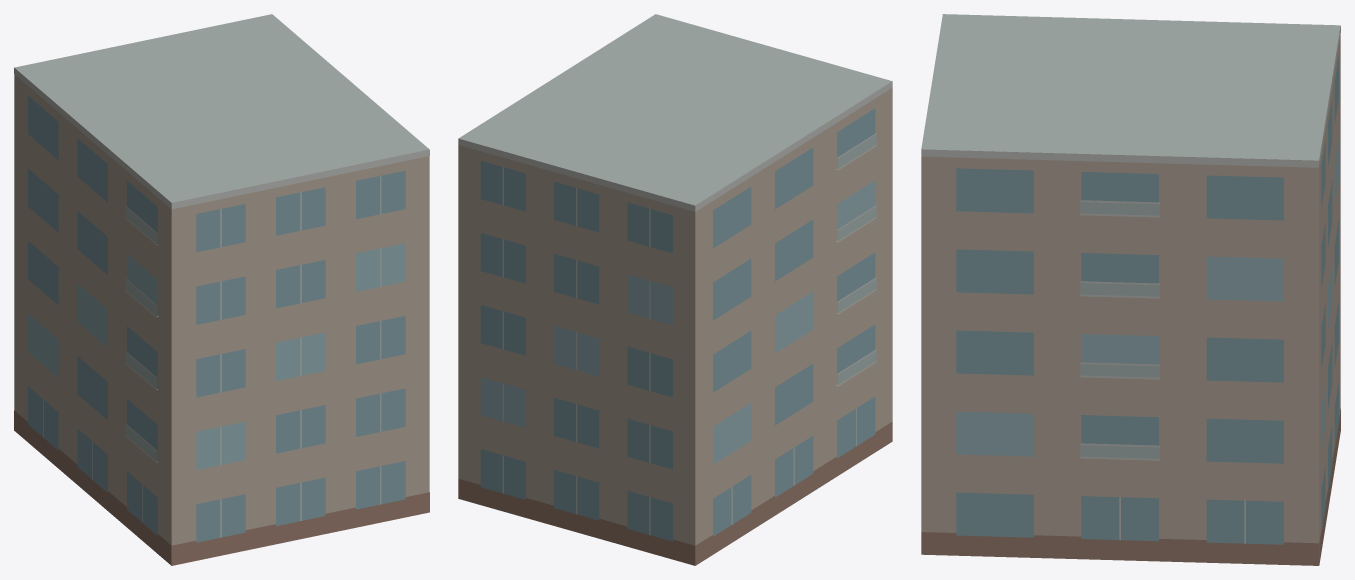
File: survey-upis-32737325.glb
The picture shows the model from 3 angles, left to right: view 1: azimuth 30°, elevation 25°; view 2: azimuth 150°, elevation 25°; view 3: azimuth 270°, elevation 25°; orthographic projection. The views are drawn at different scales.
Visible parts, largest first — view 1: survey-upis-32737325.tmp; view 2: survey-upis-32737325.tmp; view 3: survey-upis-32737325.tmp.
Part boxes in pixels (bbox=[...]): survey-upis-32737325.tmp: bbox=[14, 14, 429, 565]; survey-upis-32737325.tmp: bbox=[458, 14, 892, 565]; survey-upis-32737325.tmp: bbox=[921, 14, 1340, 565].
Bounding box in the file's own units: 10.72 × 13.8 × 12.96.
